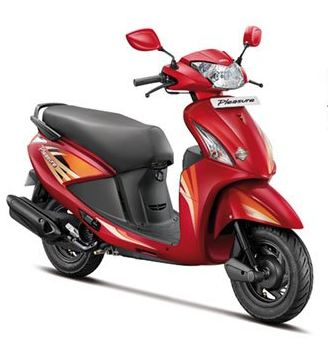bike: (5, 24, 314, 326)
